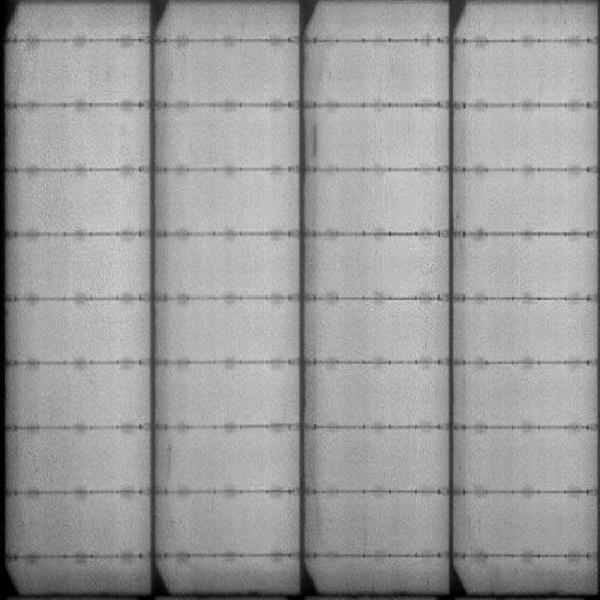scratch: (311, 122, 321, 161)
